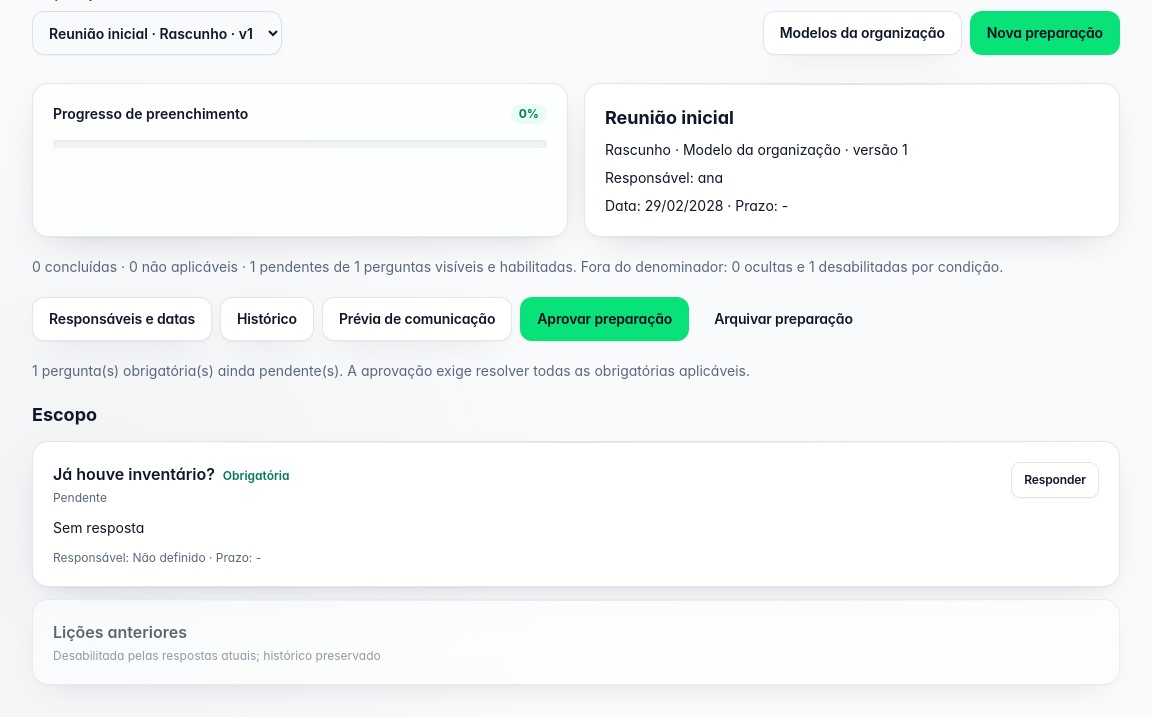
Test: Project preparation UI › shows backend conflicts without claiming that answers were saved
The width and height of the screenshot is (1152, 717).
(page scrolled)
Click the button with aria-label "Responder: Já houve inventário?". click: [1055, 480]
box: 1011,462 -> 1099,498
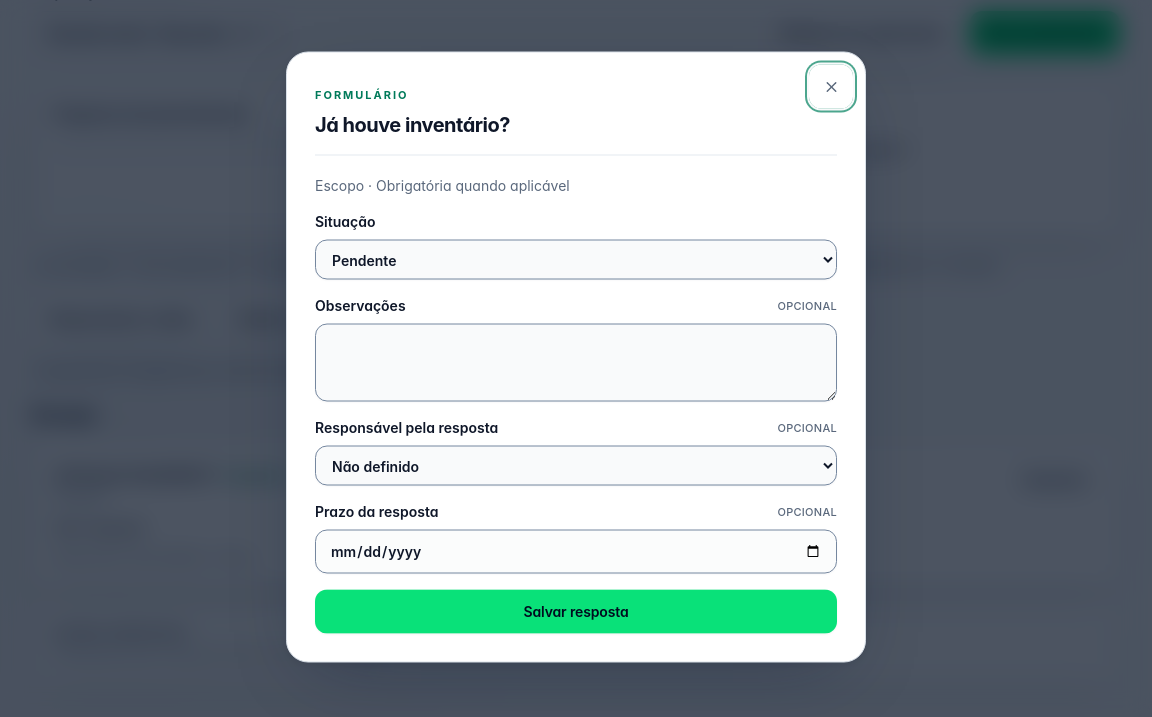
Click the button "Salvar resposta". click: [576, 612]
box: 315,590 -> 837,634
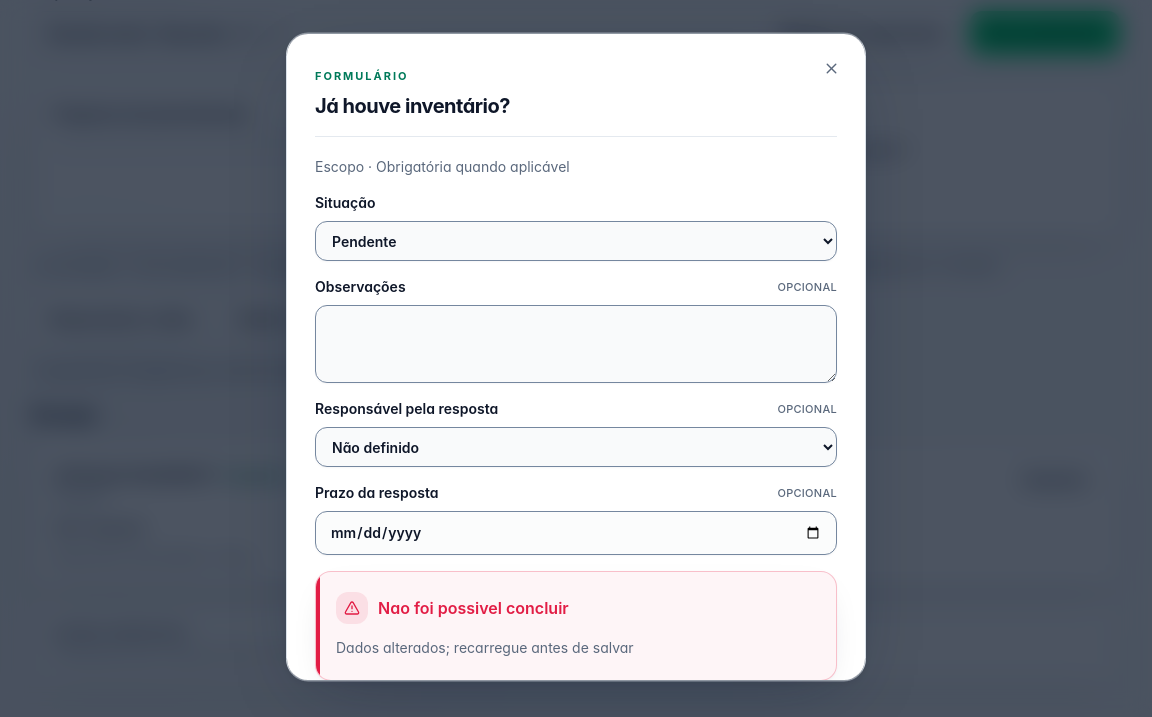
Expected: the text "Dados alterados; recarregue antes de salvar" is shown, 336,639 -> 634,656
